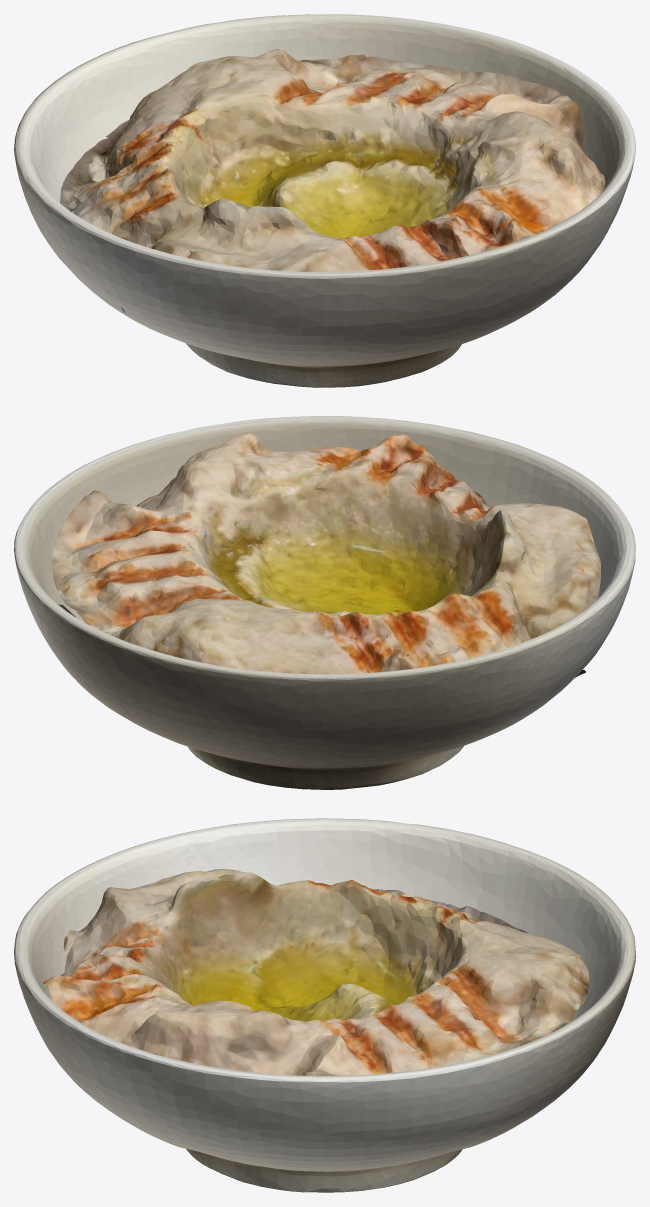
Rendered from humos.glb.
The picture shows the model from 3 angles, top to bottom: view 1: azimuth 30°, elevation 25°; view 2: azimuth 150°, elevation 25°; view 3: azimuth 270°, elevation 25°; orthographic projection.
Visible parts, largest first — view 1: object 1, world; view 2: object 1, world; view 3: world, object 1.
Part boxes in pixels (left/top/right/bottom): object 1: left=60, top=49, right=605, bottom=312; world: left=14, top=14, right=635, bottom=387; object 1: left=52, top=433, right=600, bottom=677; world: left=14, top=416, right=635, bottom=789; world: left=14, top=818, right=635, bottom=1192; object 1: left=42, top=869, right=588, bottom=1075.
Bounding box in the file's own units: 0.312 × 0.11 × 0.3119.
2 materials, 2 textured.
